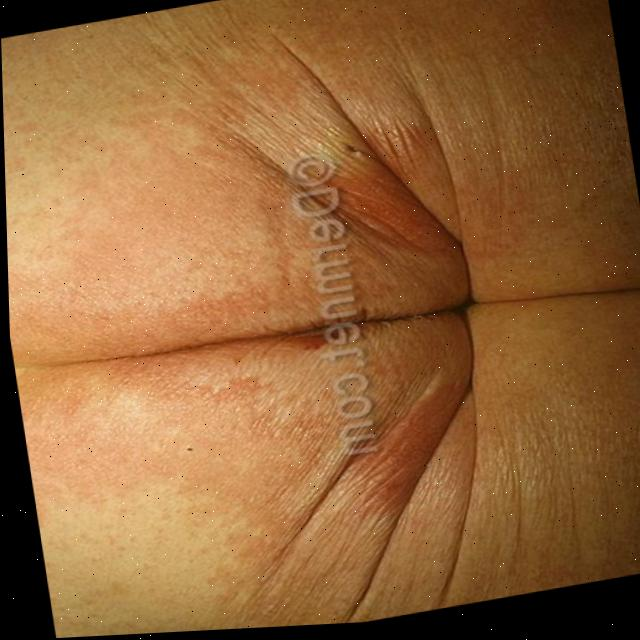Eczema: (110, 180, 464, 507)
